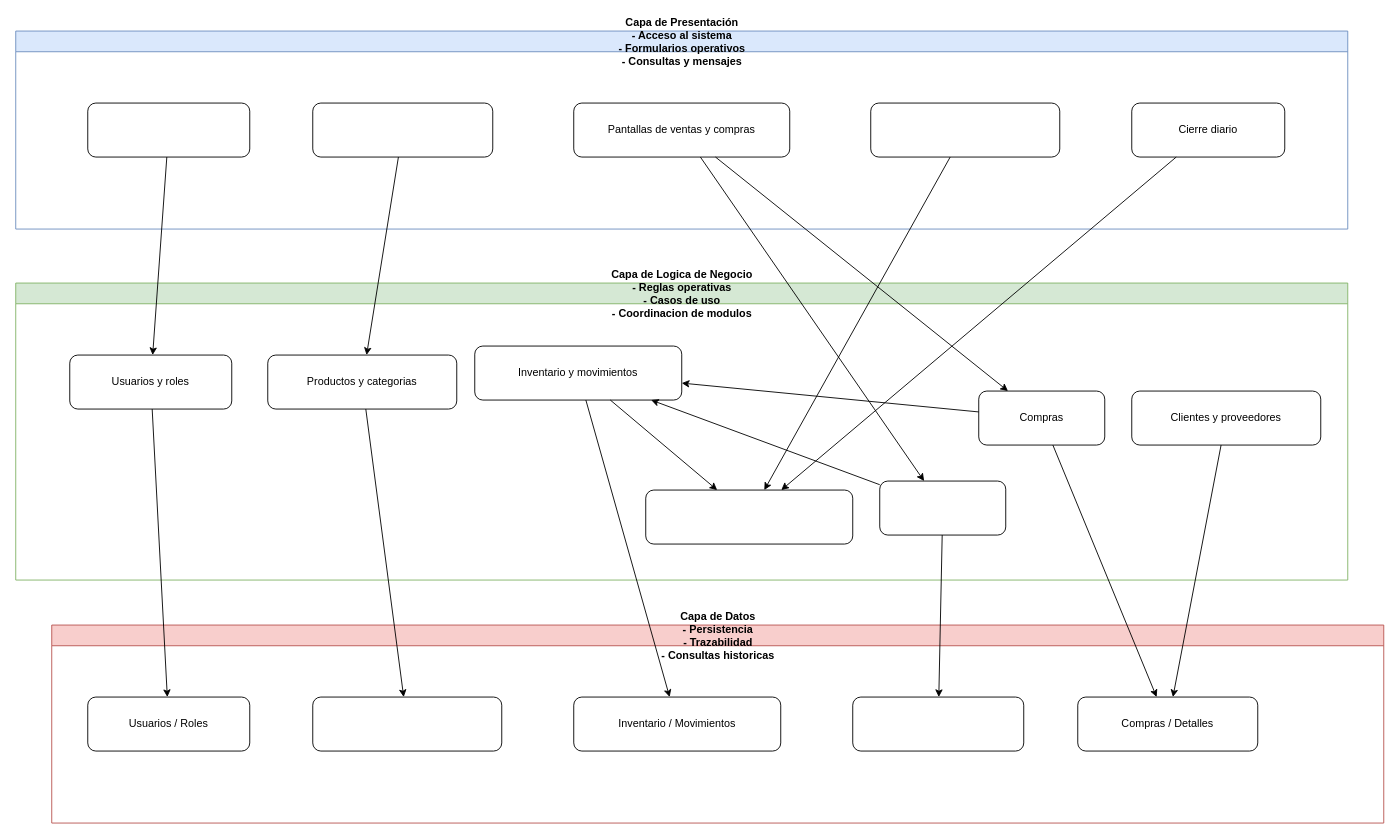
The diagram is 1400 pixels wide and 839 high, and some of its shapes have lost their labels. The shapes that lost their labels are listed below. From the top down, each one's centre as x and y in pixels, then its label:
(x=168, y=129): Autenticacion
(x=402, y=129): Pantallas de catalogo
(x=965, y=129): Consultas y reportes
(x=749, y=516): Reportes y cierre diario
(x=942, y=507): Ventas
(x=407, y=723): Productos / Categorias
(x=938, y=723): Ventas / Detalles
